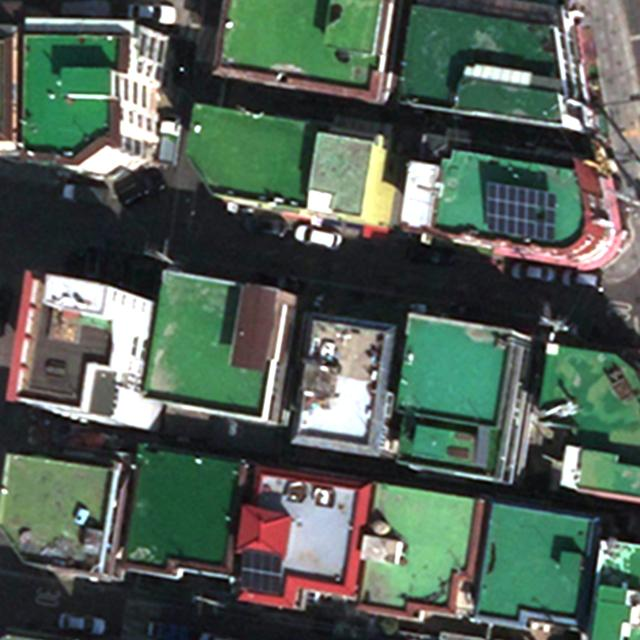panel: (482, 175, 561, 243), (238, 540, 290, 600)
